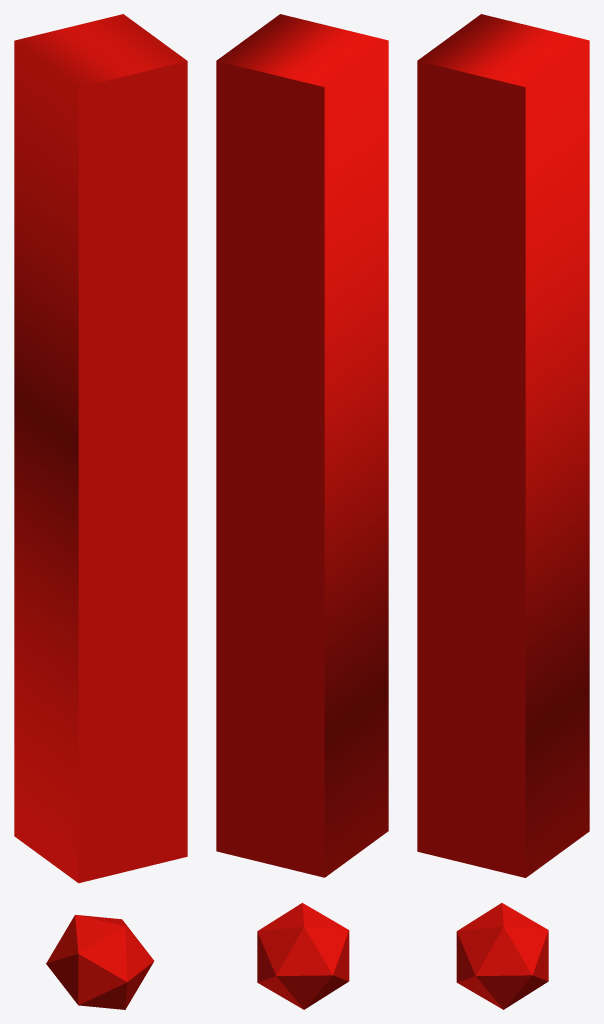
The picture shows the model from 3 angles, left to right: view 1: azimuth 30°, elevation 25°; view 2: azimuth 150°, elevation 25°; view 3: azimuth 330°, elevation 25°; orthographic projection.
Parts seen in each view (by area): view 1: 1; view 2: 1; view 3: 1.
Boxes of the visible parts, <box> form: 1: <box>14,14,187,1009</box>; 1: <box>216,14,388,1009</box>; 1: <box>417,14,589,1009</box>.
Size of the model in its own units: 0.098 by 0.8171 by 0.1.
